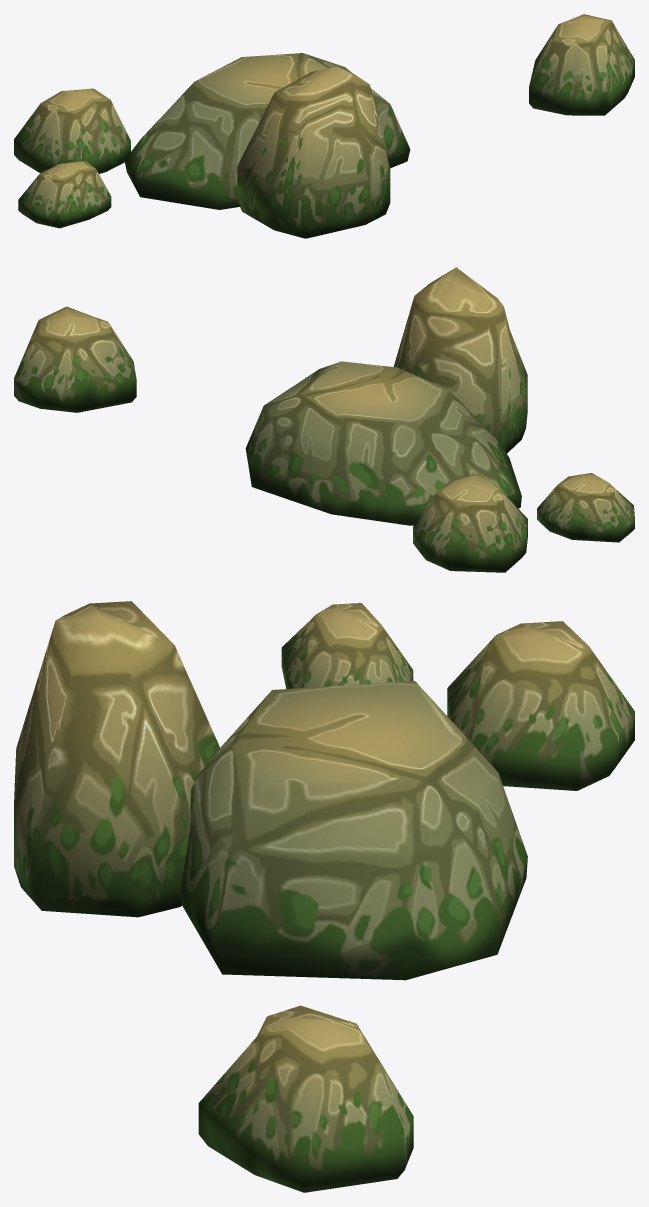
Rendered from RockGroup_03.FBX.
3 renders of one model, top to bottom at view 1: azimuth 30°, elevation 25°; view 2: azimuth 150°, elevation 25°; view 3: azimuth 270°, elevation 25°, orthographic. The views are drawn at different scales.
Parts seen in each view (by area): view 1: RockGroup_03; view 2: RockGroup_03; view 3: RockGroup_03.
Part boxes in pixels (x1=…): RockGroup_03: x1=14, y1=14, x2=634, y2=238; RockGroup_03: x1=14, y1=267, x2=634, y2=572; RockGroup_03: x1=14, y1=601, x2=634, y2=1192.
Bounding box in the file's own units: 1.91 × 0.4396 × 0.9358.
